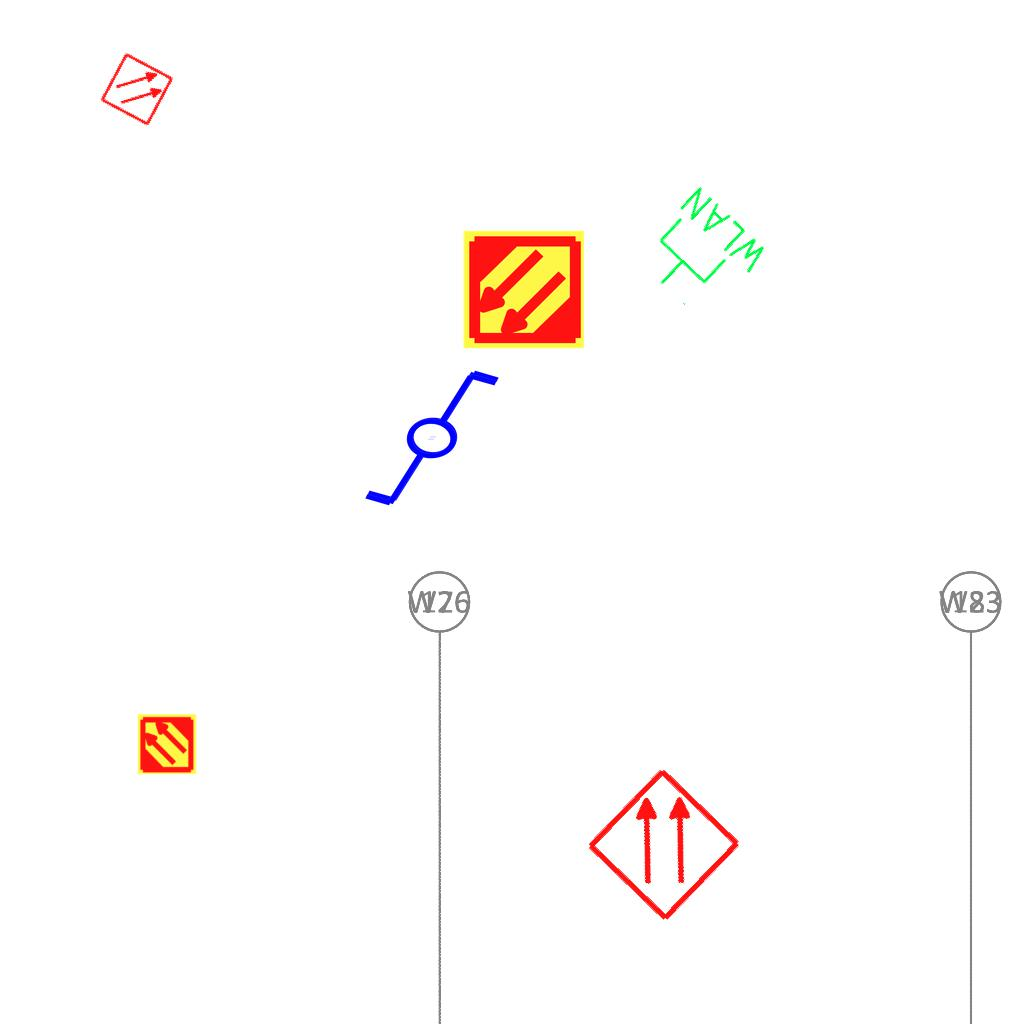ASR_Ansaugrauchmelder: (461, 227, 586, 352), (136, 713, 198, 775)
RMO_Rauchmelder_optischer: (583, 764, 744, 925), (99, 51, 175, 127)
WLAN: (628, 180, 776, 329)
Wechselschalter: (346, 363, 503, 507), (361, 369, 518, 513)
